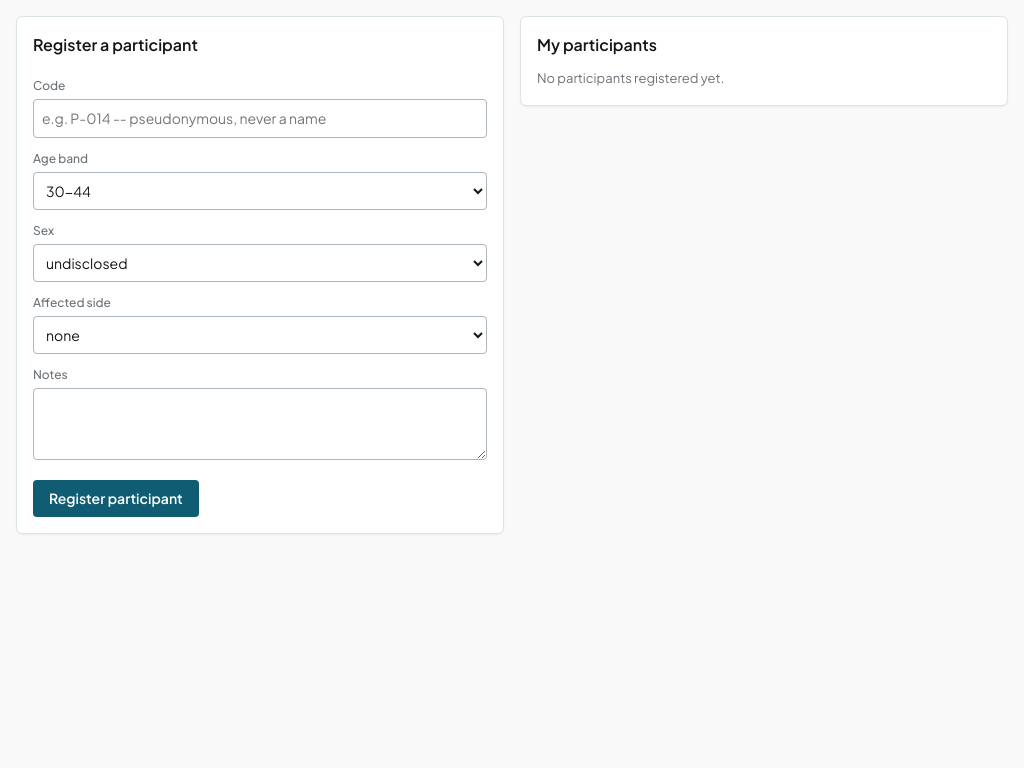
ParticipantsPage › registers a participant and refreshes the list
Check: the text "No participants registered yet." is shown, box [537,70,724,86]
Type "P-002" into the field labelled "Code" at (260, 118), box [33,99,487,138]
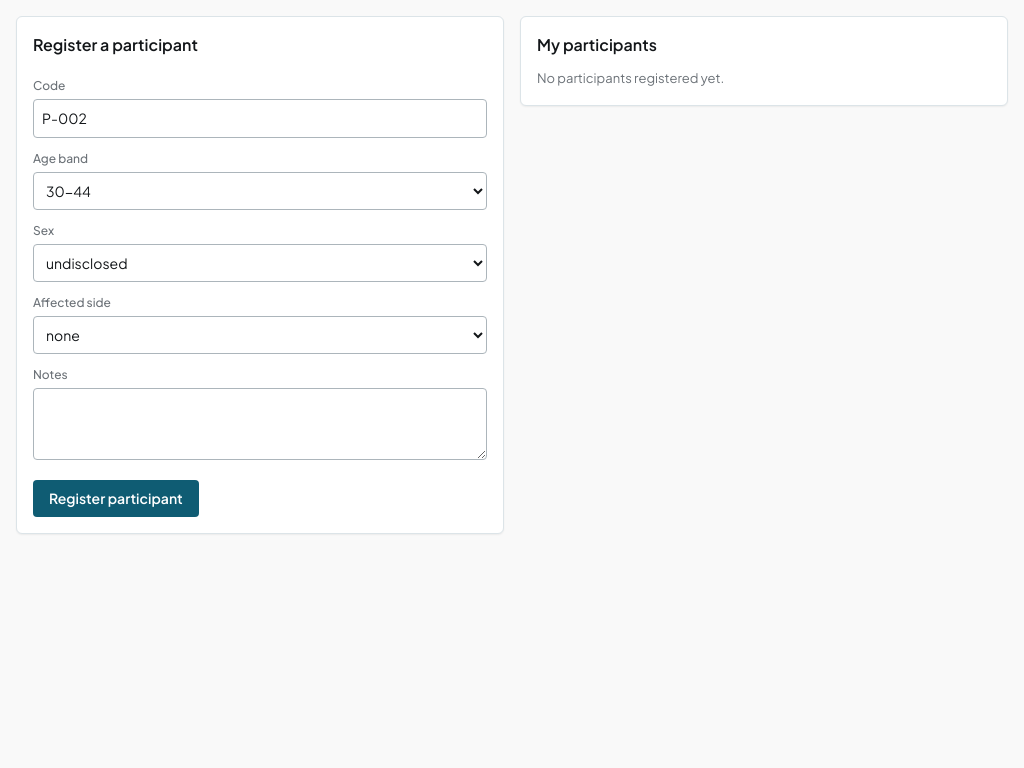
Click the button "Register participant" at (116, 498), box [33,480,199,517]
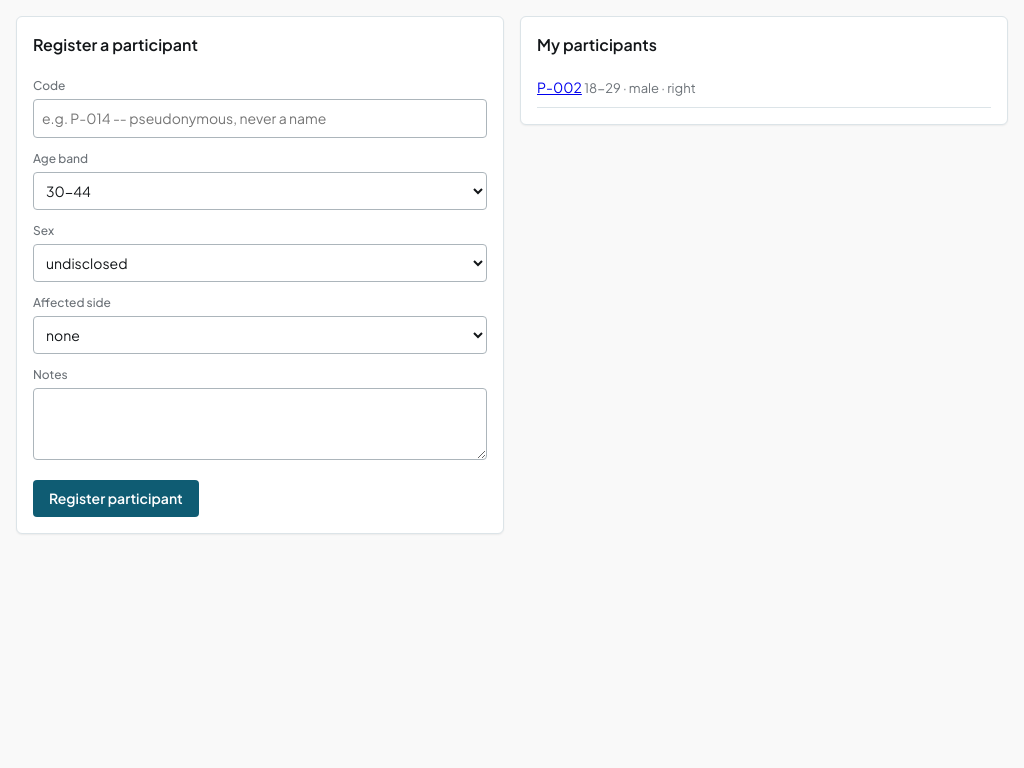
Check: the link "P-002" is shown, box [537,78,582,96]
